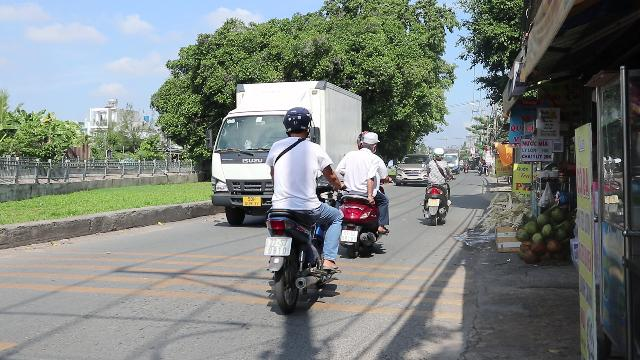helmet: (280, 105, 312, 137), (432, 147, 443, 159)
licenseplate: (264, 236, 292, 256), (340, 230, 358, 242), (428, 198, 438, 206)
motorcyclist: (258, 104, 344, 314), (335, 130, 391, 258), (418, 145, 452, 224)
nohelmet: (358, 132, 378, 152)
